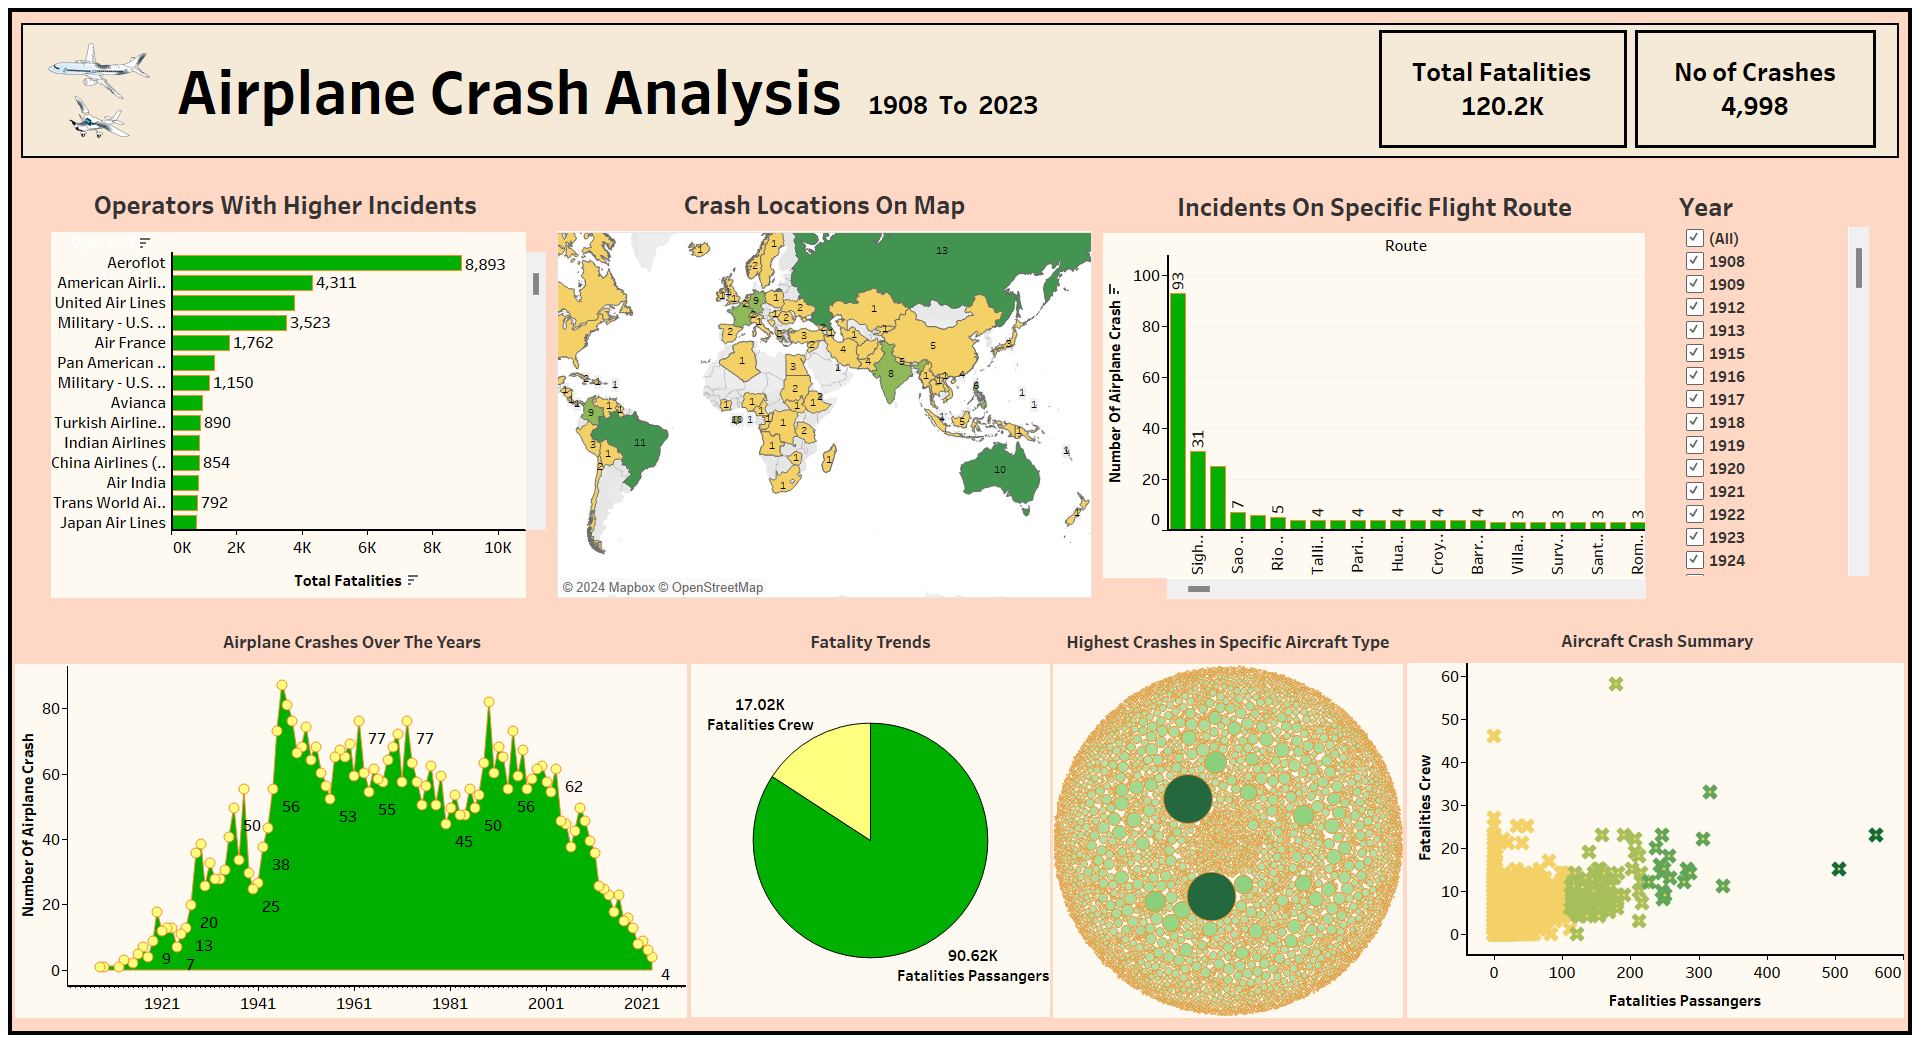

What the dashboard file says about the page in this screenshot:
{"tool":"tableau","page":{"name":"Airplane Crash Analysis","canvas":[1000,1000],"units":"permille","ordinal":0},"visuals":[{"type":"worksheet","title":"Title","mark":"Automatic","box":[10.9,22.3,978.3,129.3]},{"type":"worksheet","title":"Total Fatalities","mark":"Automatic","box":[717.6,28.2,130.4,115.2]},{"type":"worksheet","title":"Number Of Crashes","mark":"Automatic","box":[850.9,28.2,127.3,115.2]},{"type":"worksheet","title":"Operators With Higher Incidents ","mark":"Automatic","rows":["Operator"],"cols":["Total Fatalities"],"box":[26.6,175.1,257.7,398.4]},{"type":"worksheet","title":"Crash Locations On Map","mark":"Multipolygon","box":[290.3,175.1,278.8,398.4]},{"type":"worksheet","title":"Incidents On Specific Flight Route","mark":"Bar","rows":["AC Type"],"cols":["Route"],"box":[574.5,177.4,283,397.2]},{"type":"filter","title":"Operators With Higher Incidents ","param":"[federated.13elerz0j4dh9p1740ik30mz3kgg].[none:Year:nk]","box":[874.5,181,99,371.3]},{"type":"worksheet","title":" Aircraft Crash Summary","mark":"Automatic","rows":["Fatalities Crew"],"cols":["Fatalities Passangers"],"box":[732.6,599.3,258.9,377.2]},{"type":"worksheet","title":"Airplane Crashes Over The Years","mark":"Area","rows":["AC Type","AC Type"],"cols":["Date"],"box":[7.9,600.5,350,376]},{"type":"worksheet","title":"Fatality Trends","mark":"Pie","box":[359.7,600.5,187.1,374.9]},{"type":"worksheet","title":"Highest Crashes in Specific Aircraft Type","mark":"Circle","box":[548.6,600.5,182.3,376]}]}

Visuals, with their boxes on the dashboard's canvas, which has no fixed pixel size, in thousandths of its width and height (x1, y1, x2, y2). These are canvas units, not pixel positions in the 1916x1040 screenshot, which may show the page scaled, cropped or inside an application window:
"Title" worksheet: [11, 22, 989, 152]
"Total Fatalities" worksheet: [718, 28, 848, 143]
"Number Of Crashes" worksheet: [851, 28, 978, 143]
"Operators With Higher Incidents " worksheet: [27, 175, 284, 574]
"Crash Locations On Map" worksheet (Multipolygon marks): [290, 175, 569, 574]
"Incidents On Specific Flight Route" worksheet (Bar marks): [574, 177, 858, 575]
"Operators With Higher Incidents " filter: [874, 181, 974, 552]
" Aircraft Crash Summary" worksheet: [733, 599, 992, 976]
"Airplane Crashes Over The Years" worksheet (Area marks): [8, 600, 358, 976]
"Fatality Trends" worksheet (Pie marks): [360, 600, 547, 975]
"Highest Crashes in Specific Aircraft Type" worksheet (Circle marks): [549, 600, 731, 976]
